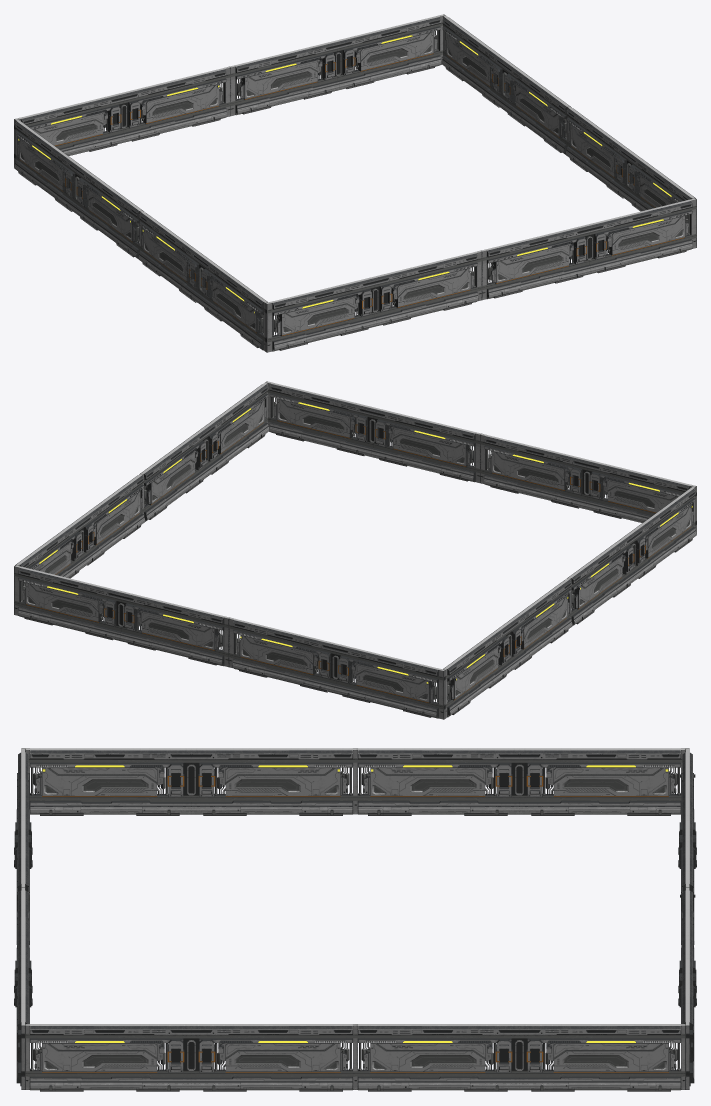
Rendered from SciFiBigStructure.glb.
3 views of the same model, one above another, from view 1: azimuth 30°, elevation 25°; view 2: azimuth 150°, elevation 25°; view 3: azimuth 270°, elevation 25° (orthographic). The views are drawn at different scales.
Visible parts, largest first — view 1: SciFiStructure-Big; view 2: SciFiStructure-Big; view 3: SciFiStructure-Big.
Part boxes in pixels (<box>): SciFiStructure-Big: <box>14,14,696,352</box>; SciFiStructure-Big: <box>14,381,696,719</box>; SciFiStructure-Big: <box>14,748,696,1091</box>.
Size of what is drawn, in the model's own units: 81.78 by 8.62 by 83.26.
Materials: 2 (2 with a texture image).
